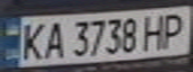3: (66, 18, 90, 57), (106, 16, 127, 55)
7: (87, 17, 109, 56)
8: (121, 15, 142, 54)
A: (39, 18, 69, 60)
H: (139, 11, 172, 52)
K: (15, 19, 48, 62)
P: (157, 9, 193, 50)
